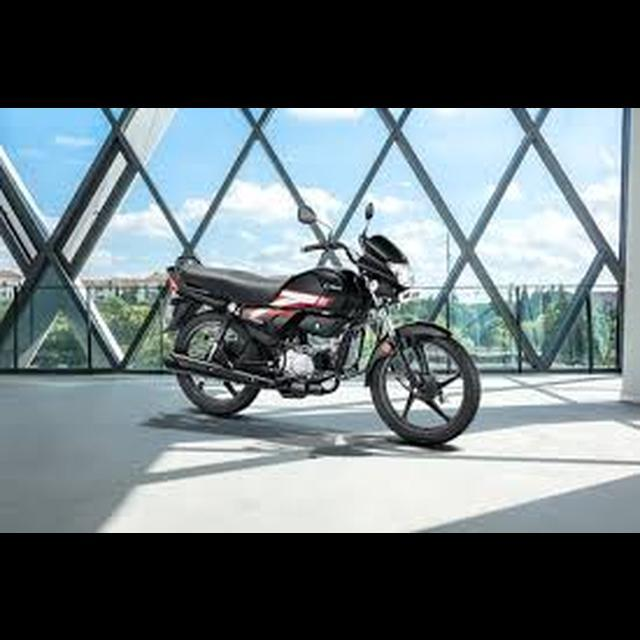motorcycle: (157, 195, 485, 451)
